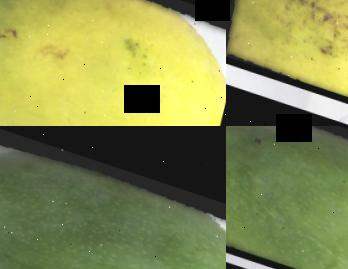PartiallyRipe: (0, 0, 226, 126)
Ripe: (226, 0, 348, 126)
Unripe: (0, 126, 226, 269), (226, 126, 348, 269)
